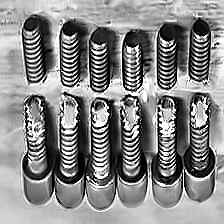creased_bolts: (8, 48, 217, 149)
